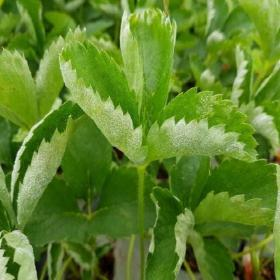Powdery Mildew Leaf: (58, 40, 149, 167), (9, 99, 91, 230), (143, 86, 260, 169), (118, 7, 178, 144), (35, 25, 87, 122), (143, 186, 196, 279), (0, 230, 38, 279)
